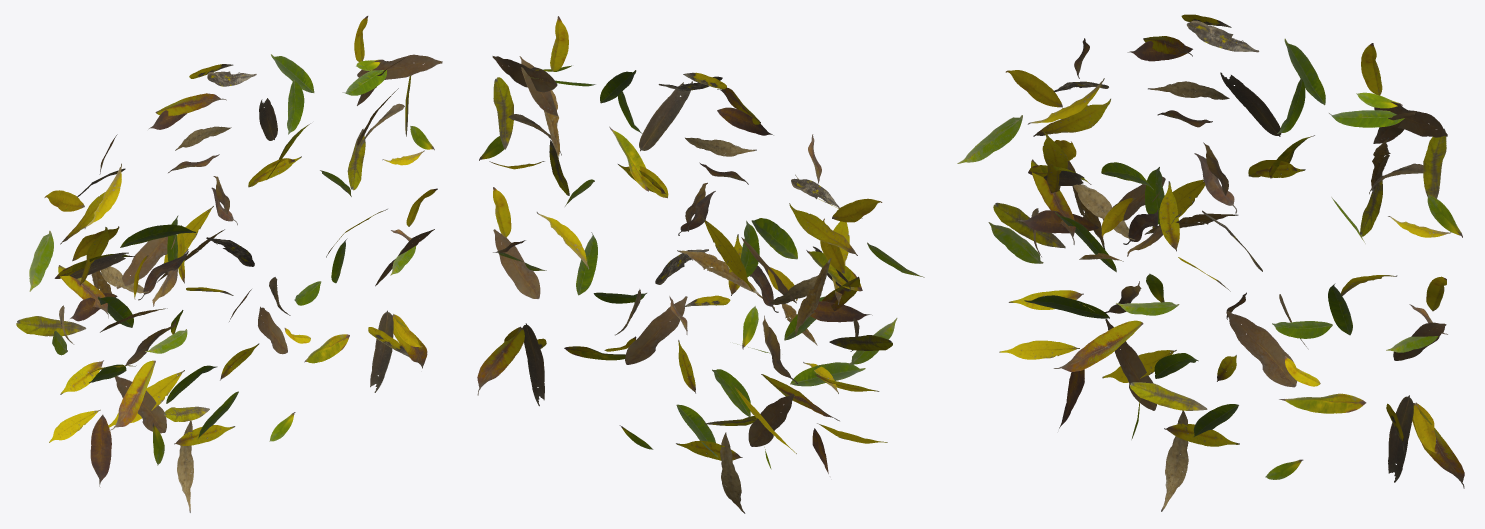
Rendered from Leaf_Pile_03_Var2_LOD2.fbx.
The picture shows the model from 3 angles, left to right: view 1: azimuth 30°, elevation 25°; view 2: azimuth 150°, elevation 25°; view 3: azimuth 330°, elevation 25°; orthographic projection. The views are drawn at different scales.
Parts seen in each view (by area): view 1: Var2_LOD2; view 2: Var2_LOD2; view 3: Var2_LOD2.
Boxes of the visible parts, x1,y1,x2,y2 form: Var2_LOD2: (16, 16, 442, 512); Var2_LOD2: (477, 16, 924, 513); Var2_LOD2: (957, 14, 1464, 511).
Size of the model in its own units: 64.26 by 65.33 by 7.73.
